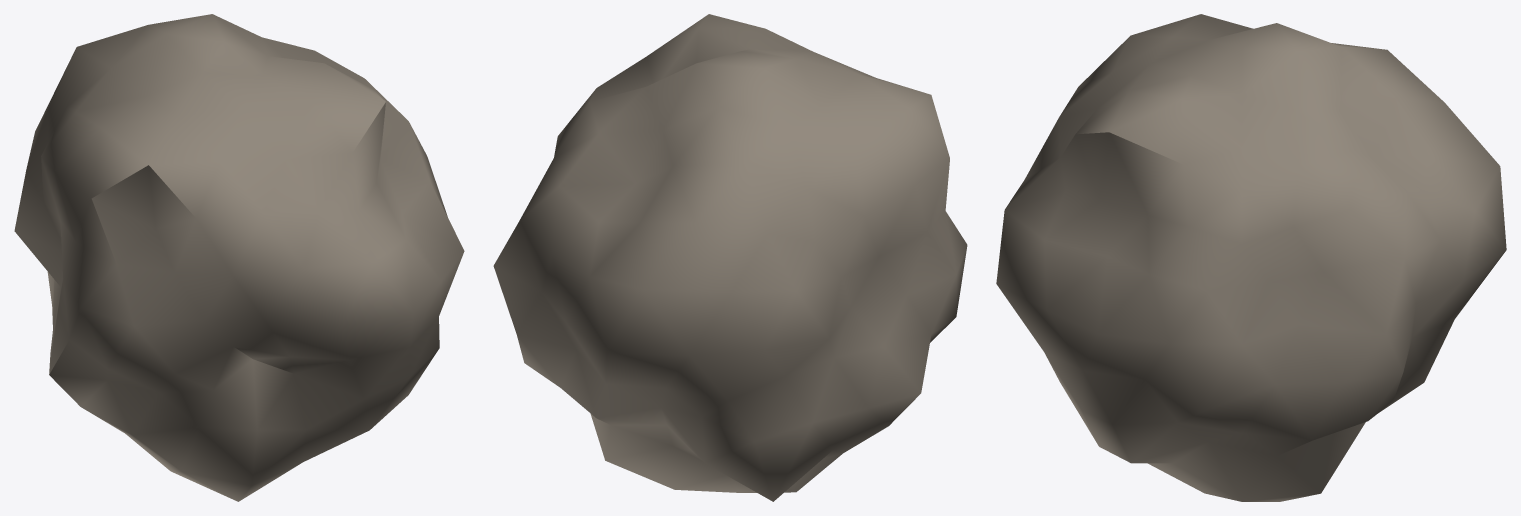
The model's file is rock_2.glb.
3 renders of one model, left to right at view 1: azimuth 30°, elevation 25°; view 2: azimuth 150°, elevation 25°; view 3: azimuth 270°, elevation 25°, orthographic. The views are drawn at different scales.
Visible parts, largest first — view 1: Rock; view 2: Rock; view 3: Rock.
Boxes of the visible parts, x1,y1,x2,y2 form: Rock: [14, 14, 464, 501]; Rock: [493, 14, 967, 501]; Rock: [996, 14, 1506, 501].
Size of the model in its own units: 0.9909 by 1.1 by 1.14.
